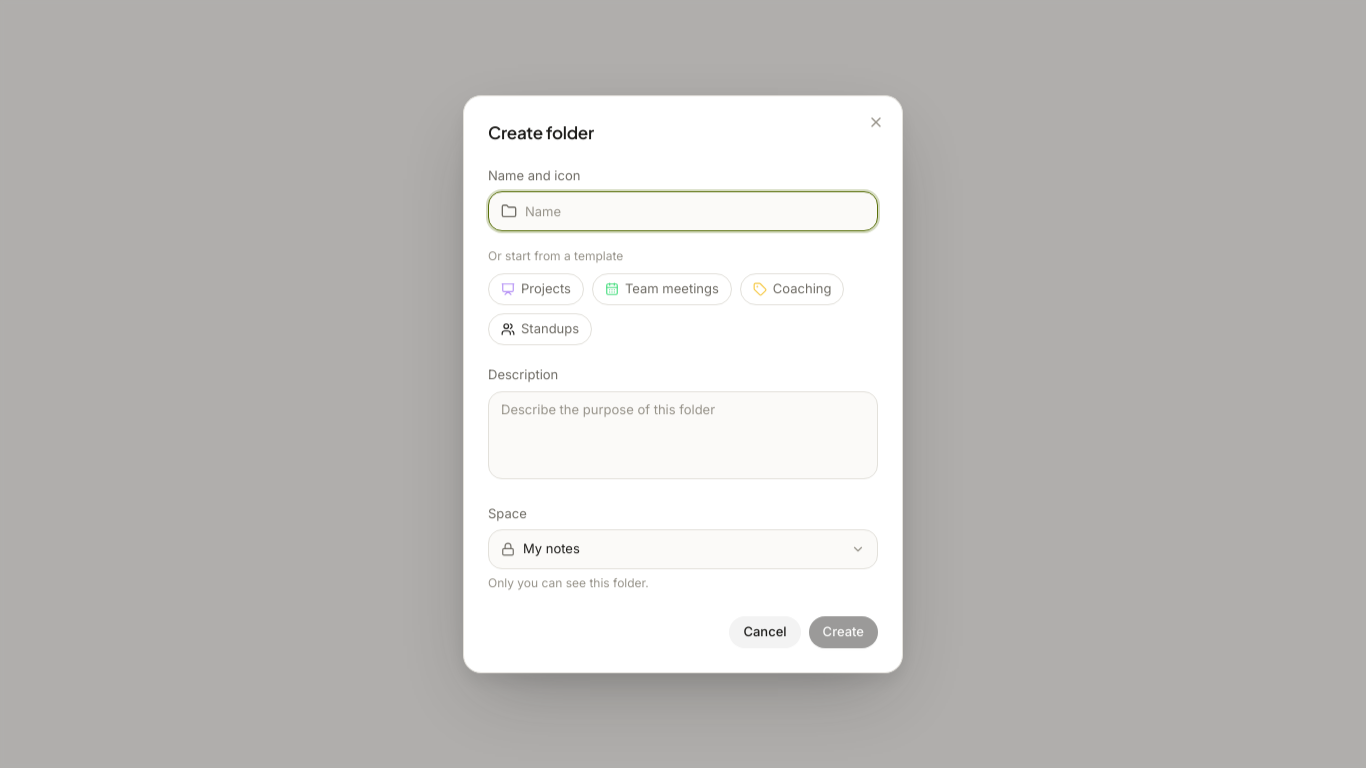
Test: CreateFolderDialog › fills name and description from a template chip
The width and height of the screenshot is (1366, 768).
Click the button "Projects". click: (536, 289)
box: [488, 273, 584, 305]
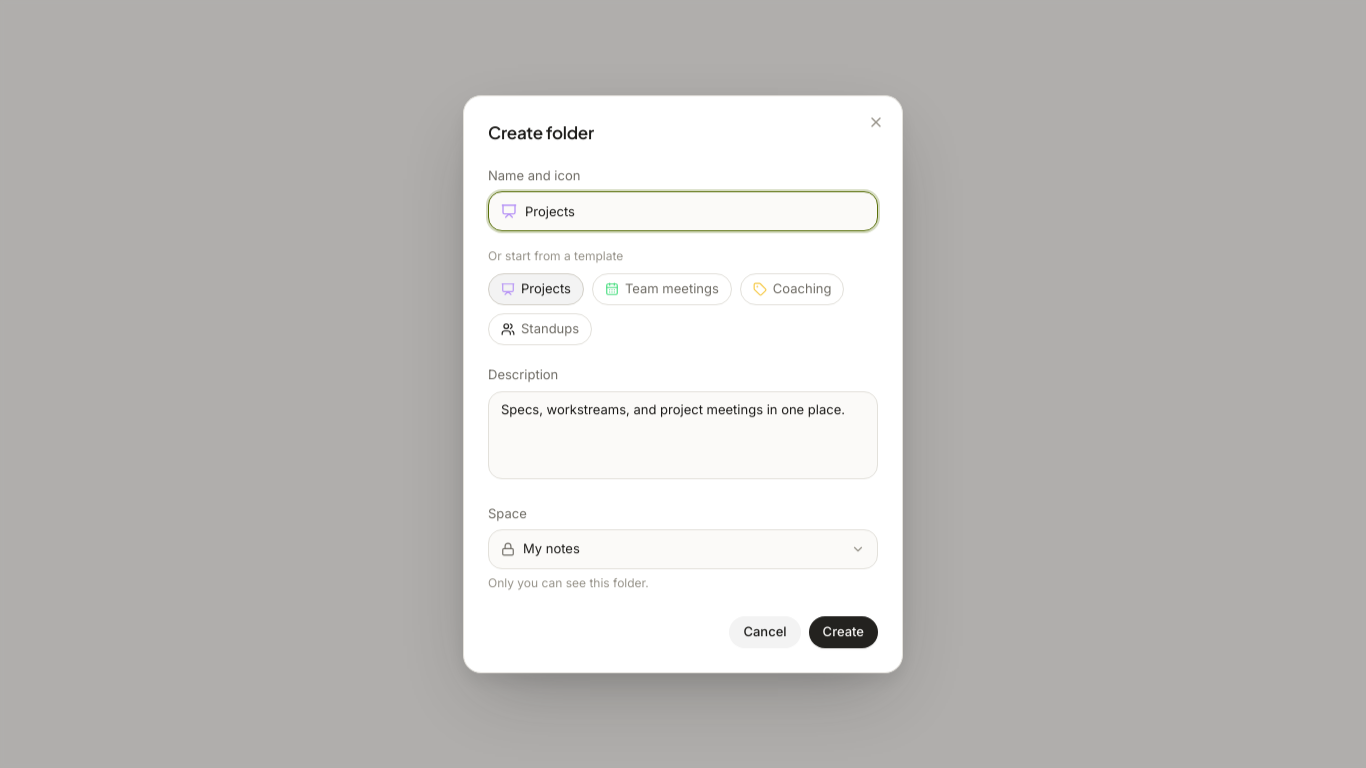
Check: the field with placeholder "Name" holds "Projects", box [525, 192, 865, 230]
Check: the text box with placeholder "Describe the purpose of this folder" holds "Specs, workstreams, and project meetings in one place.", box [488, 391, 878, 479]
Check: the button "Create" is enabled, box [809, 616, 878, 648]
